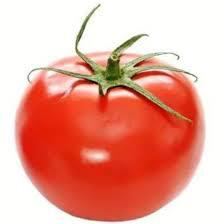tomato: (10, 53, 203, 220)
